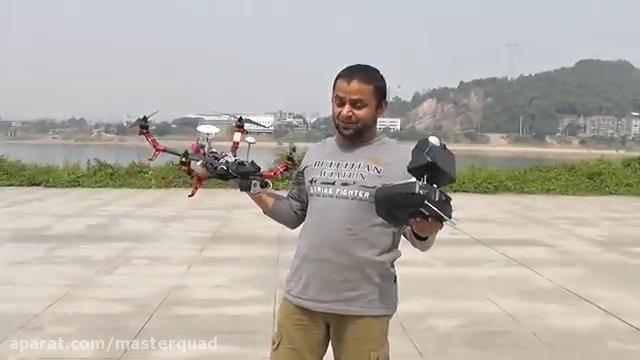drone: (121, 106, 305, 198)
